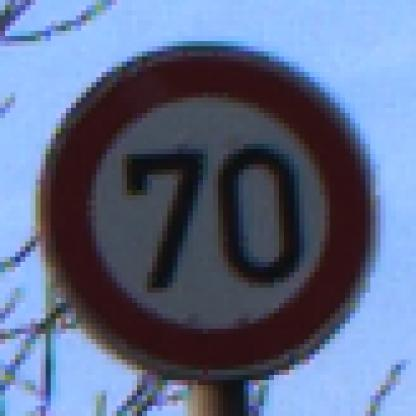Speed Limit 70: (46, 45, 374, 371)
